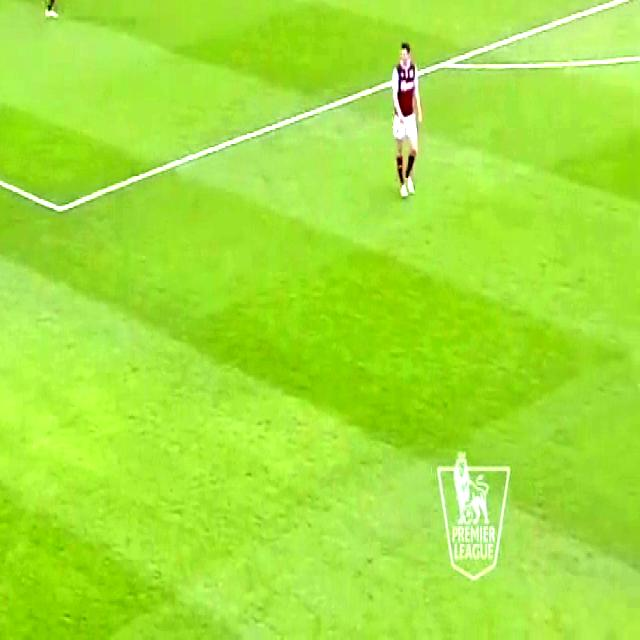soccer-player: (384, 26, 424, 207), (27, 0, 64, 27), (0, 48, 1, 192)
